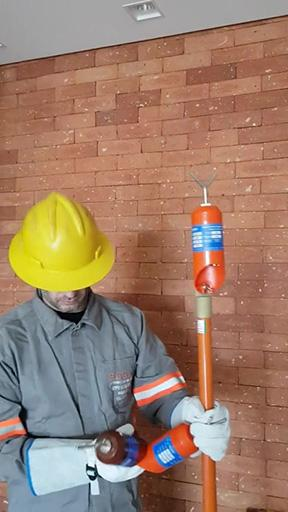Detector_Tensao_Contato: (136, 415, 227, 478), (188, 170, 226, 298), (75, 431, 148, 470)
Vara_Manobra: (190, 292, 219, 512)
